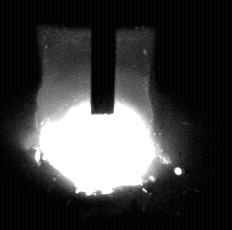arame: (91, 0, 116, 116)
poca: (33, 0, 159, 230)
